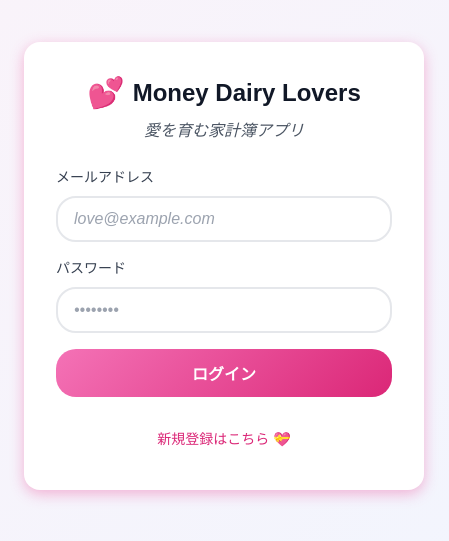
Scenario: LoginForm › displays validation errors for empty fields
The width and height of the screenshot is (449, 541).
Click the button "ログイン" at (224, 373), box x1=56 y1=349 x2=392 y2=397
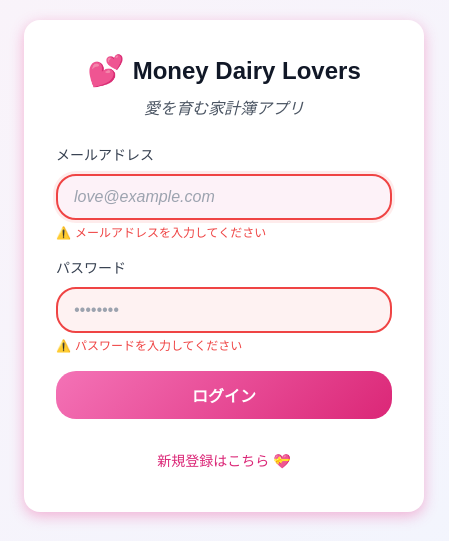
Expected: the text "メールアドレスを入力してください" is shown, x1=75 y1=226 x2=266 y2=240
Expected: the text "パスワードを入力してください" is shown, x1=75 y1=339 x2=242 y2=353
